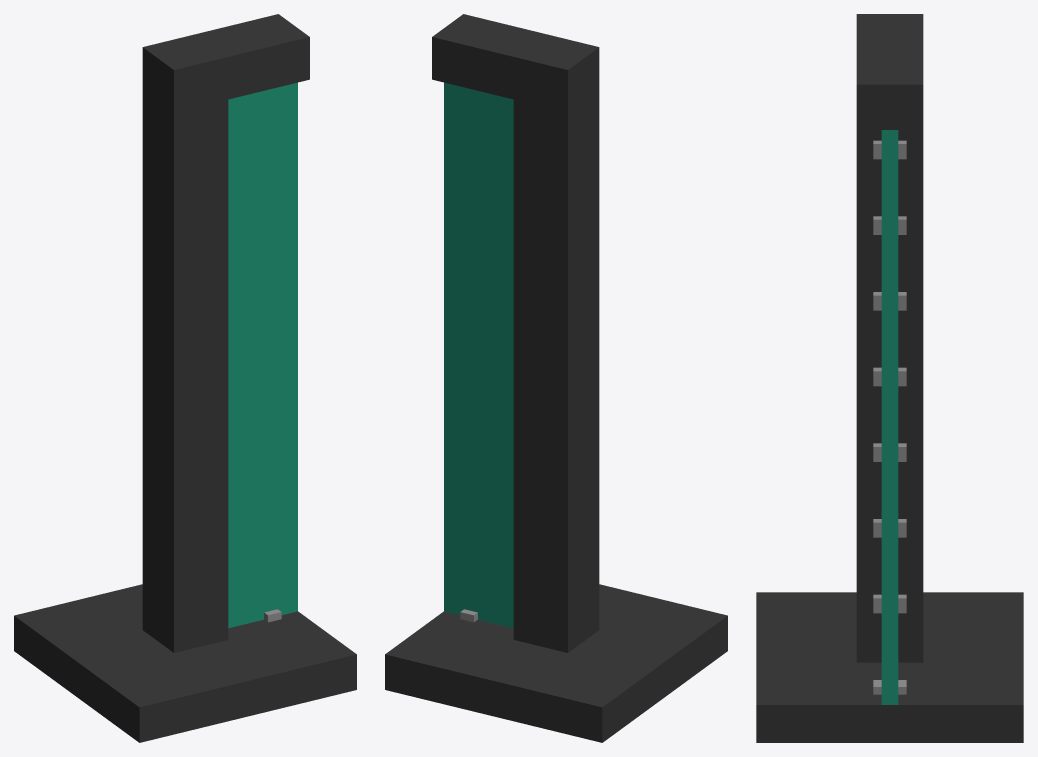
Rendered from Portal_1.1.1.obj.
The picture shows the model from 3 angles, left to right: view 1: azimuth 30°, elevation 25°; view 2: azimuth 150°, elevation 25°; view 3: azimuth 270°, elevation 25°; orthographic projection. The views are drawn at different scales.
Size of the model in its own units: 3.2 by 8.7 by 3.2.
Materials: 1 (1 with a texture image).
